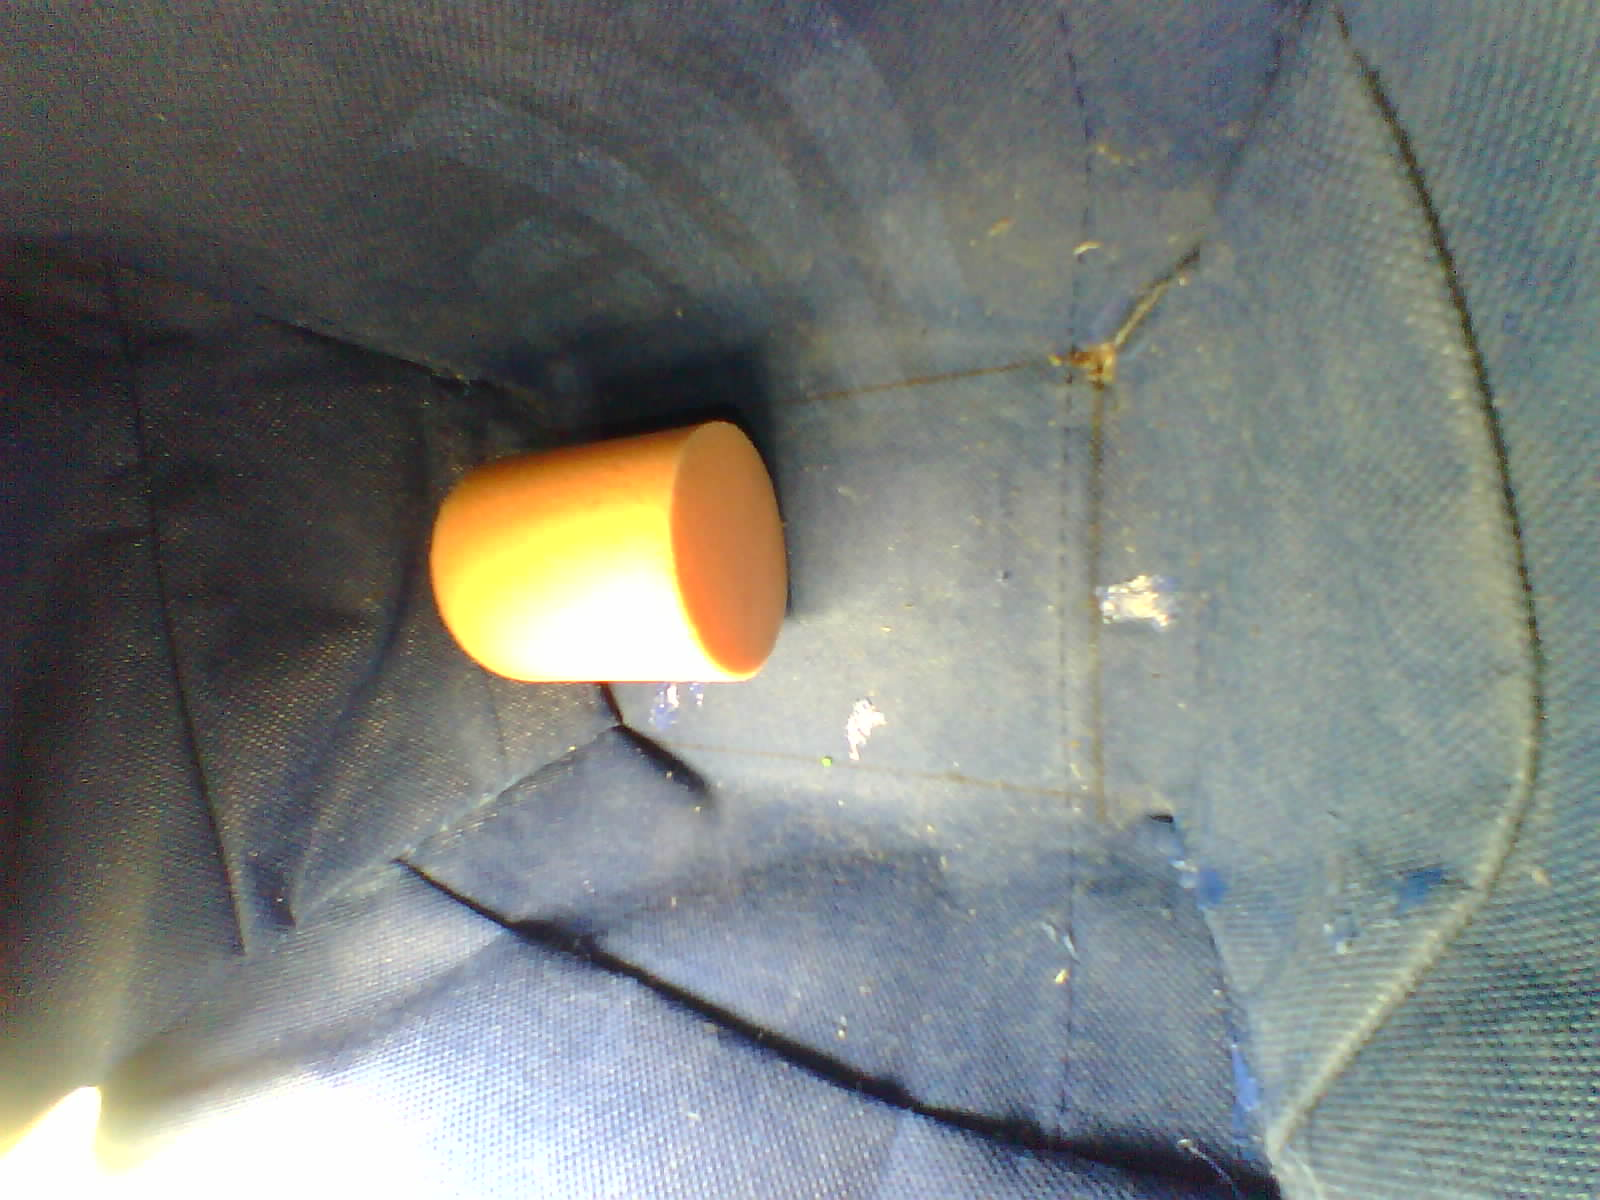cylinder-soft: (408, 401, 808, 707)
